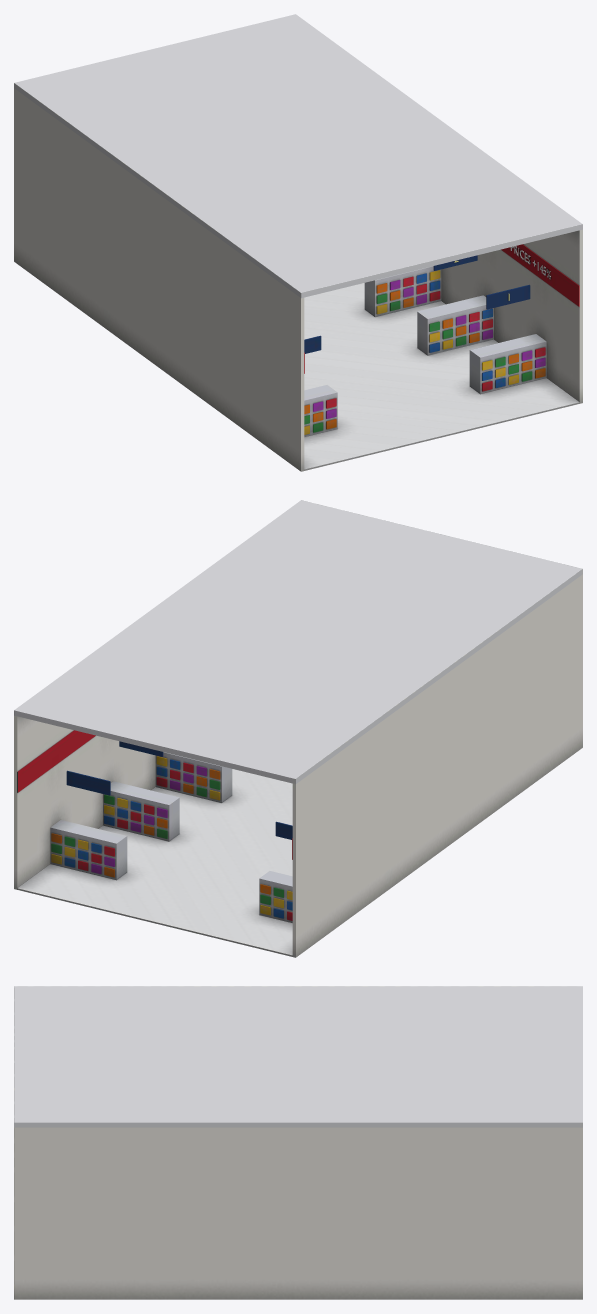
Rendered from super_pasillo.glb.
The picture shows the model from 3 angles, top to bottom: view 1: azimuth 30°, elevation 25°; view 2: azimuth 150°, elevation 25°; view 3: azimuth 270°, elevation 25°; orthographic projection.
Parts seen in each view (by area): view 1: super_pasillo; view 2: super_pasillo; view 3: super_pasillo.
Boxes of the visible parts, x1,y1,x2,y2 form: super_pasillo: (14, 14, 582, 471); super_pasillo: (14, 500, 582, 957); super_pasillo: (14, 986, 582, 1299).
Bounding box in the file's own units: 17 × 10.3 × 30.
1 material, 1 textured.
